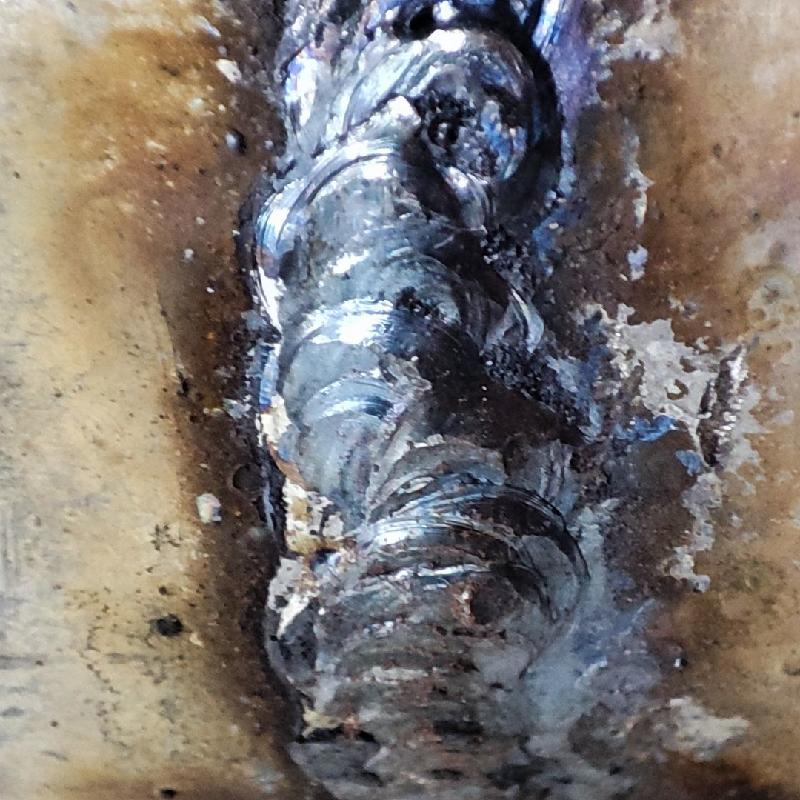Surface_pores: (387, 2, 453, 51)
